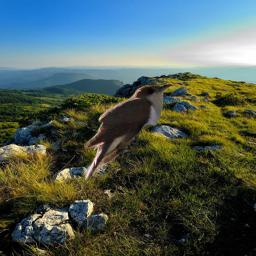Cuckoo: (81, 82, 174, 193)
